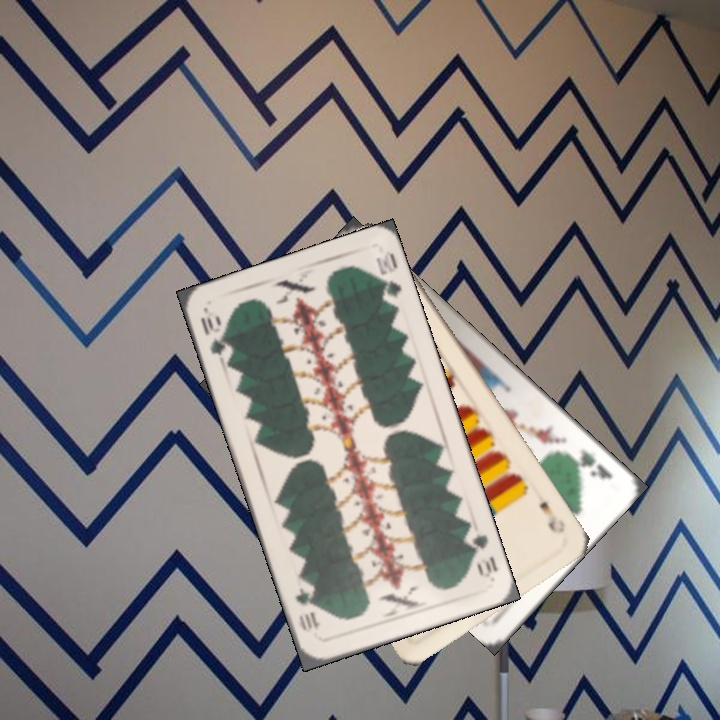E9: (535, 497, 568, 537)
G10: (461, 526, 501, 581), (196, 312, 234, 365)
GK: (563, 444, 615, 482)
